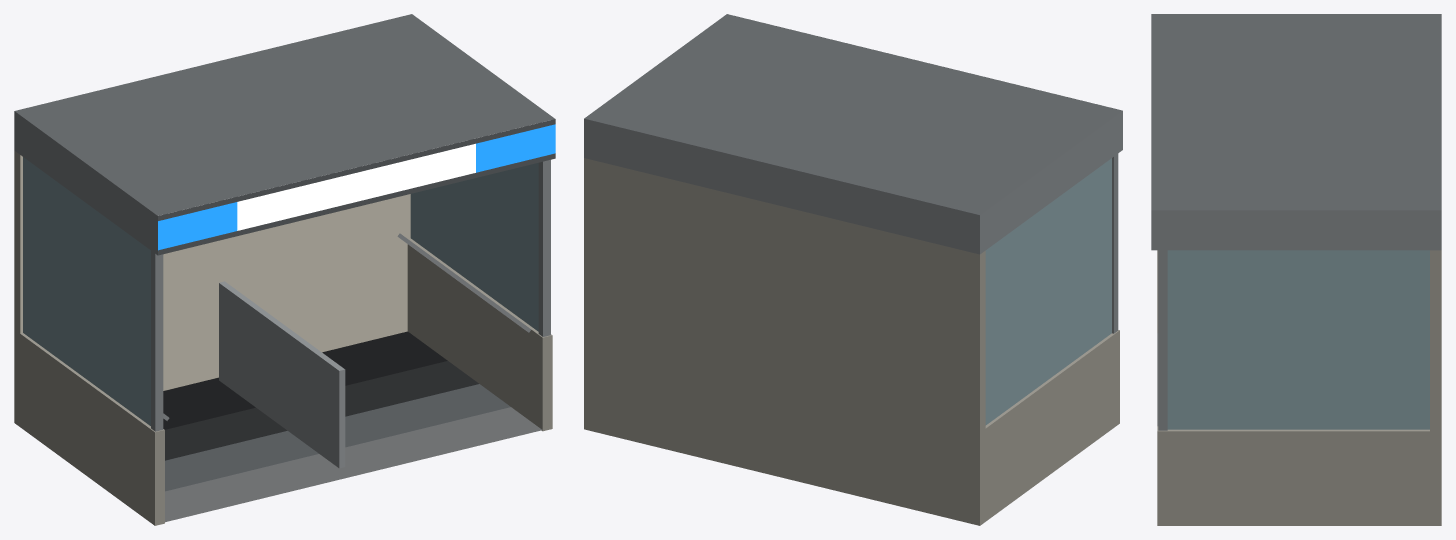
Rendered from tokyo_subway_entrance.glb.
3 renders of one model, left to right at view 1: azimuth 30°, elevation 25°; view 2: azimuth 150°, elevation 25°; view 3: azimuth 270°, elevation 25°, orthographic.
Visible parts, largest first — view 1: tokyo_subway_entrance; view 2: tokyo_subway_entrance; view 3: tokyo_subway_entrance.
Boxes of the visible parts, x1,y1,x2,y2 form: tokyo_subway_entrance: [14, 14, 555, 525]; tokyo_subway_entrance: [584, 14, 1122, 525]; tokyo_subway_entrance: [1151, 14, 1441, 525].
Size of the model in its own units: 4 by 3 by 2.5.
1 material, 1 textured.
